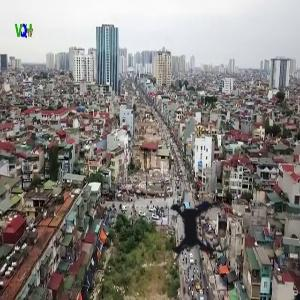drone: (128, 160, 261, 293)
